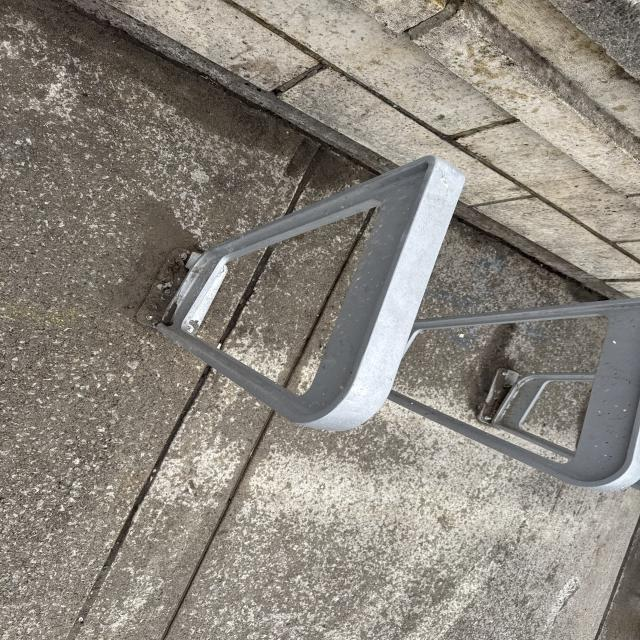Bicycle Rack: (128, 155, 462, 431), (369, 295, 640, 491), (480, 369, 636, 491)
